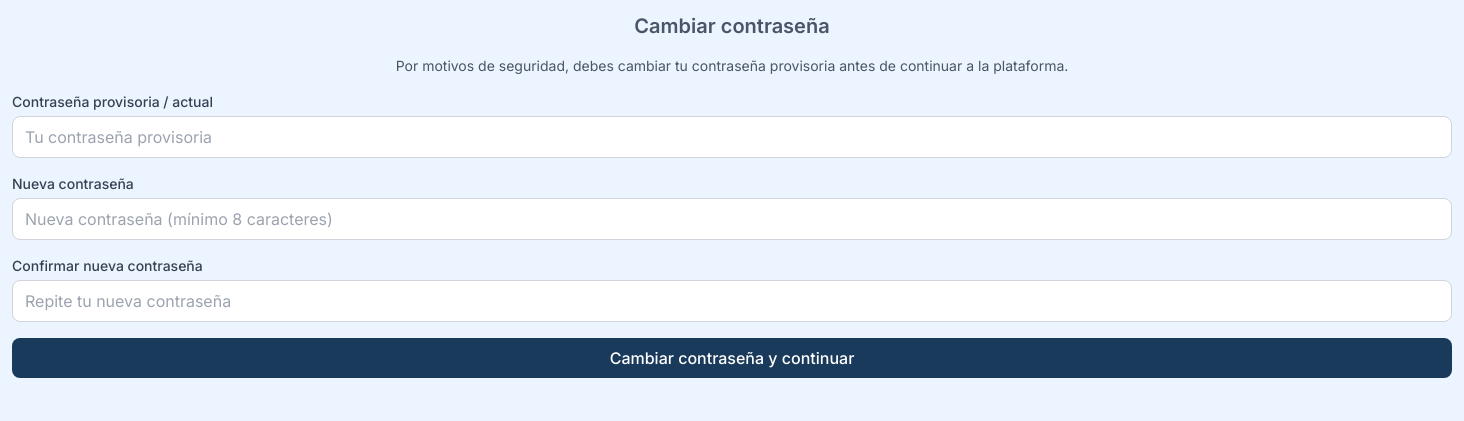
ChangePasswordPage (relevo-web) › valida que la contraseña actual sea obligatoria
This screenshot has width=1464, height=421.
Type "newPass123" into the password field labelled "Nueva contraseña" at (732, 219), box [12, 198, 1452, 240]
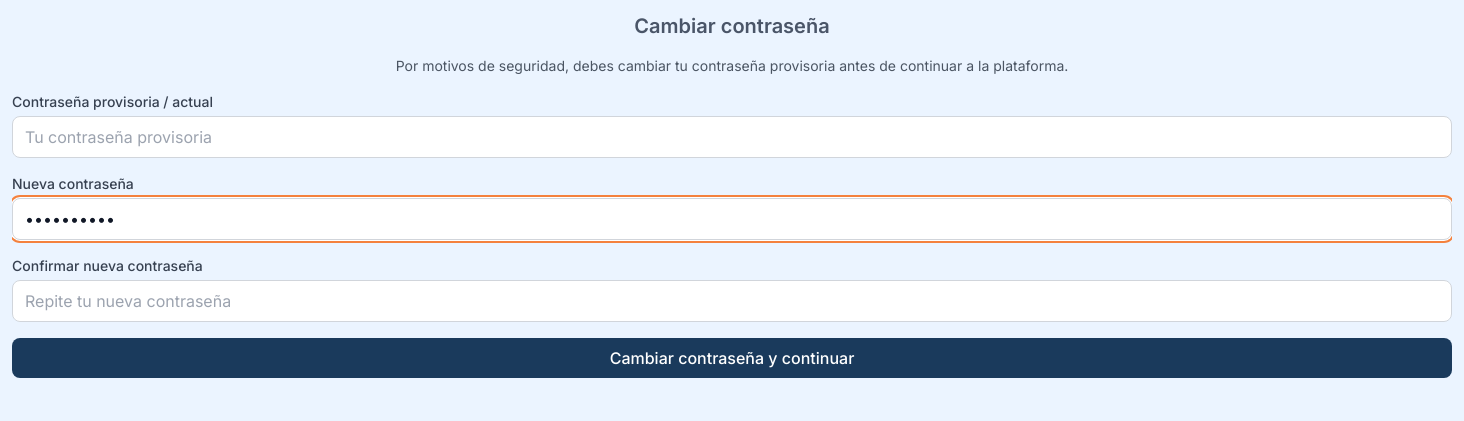
Type "newPass123" into the password field labelled "Confirmar nueva contraseña" at (732, 301), box [12, 280, 1452, 322]
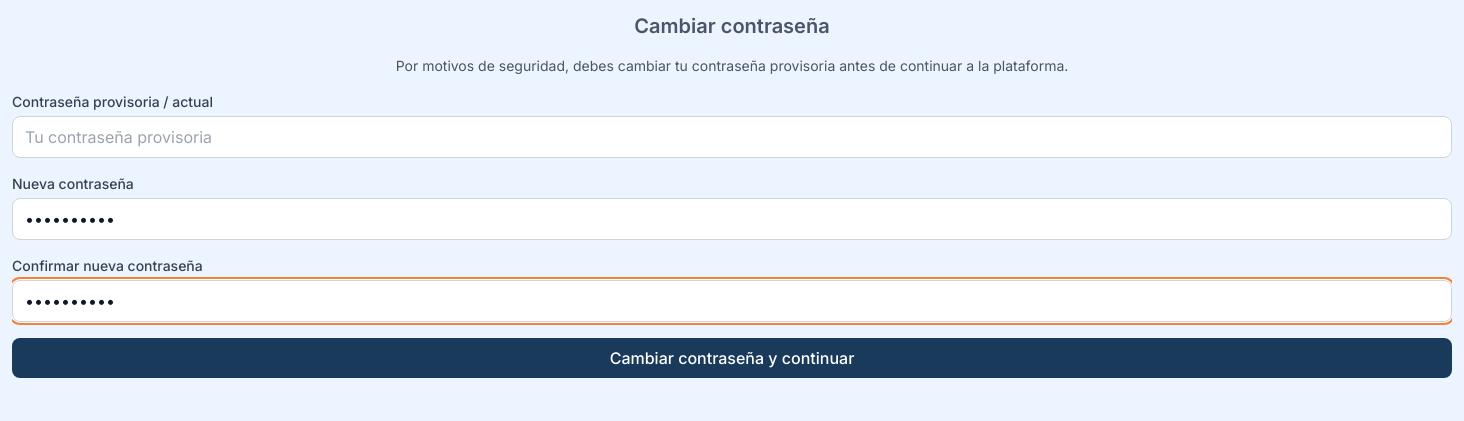
Click the button "Cambiar contraseña y continuar" at (732, 358), box [12, 338, 1452, 378]
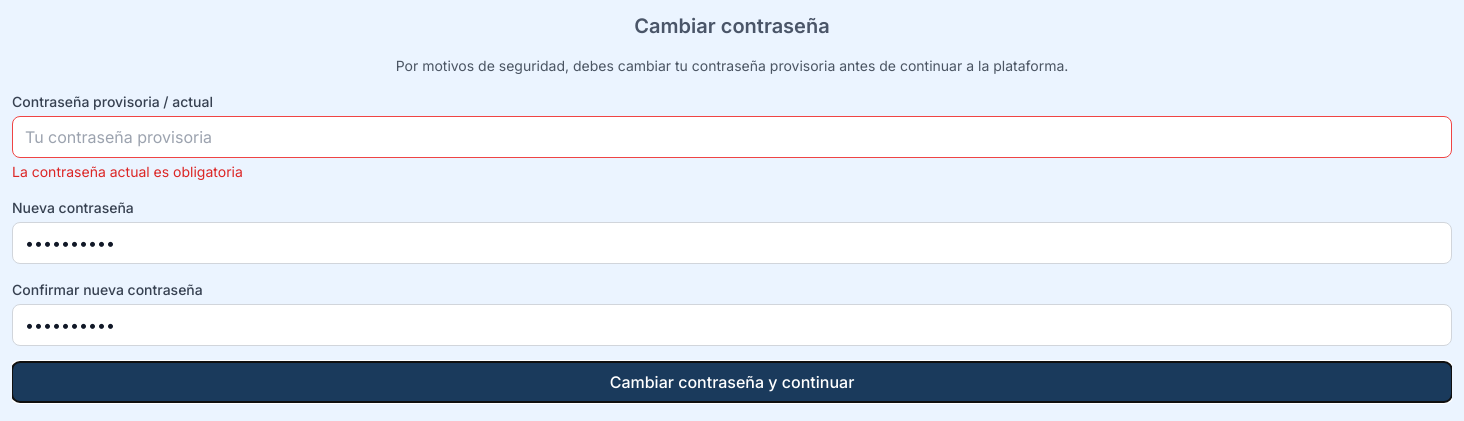
Expected: the text "La contraseña actual es obligatoria" is shown, [12, 163, 243, 180]
